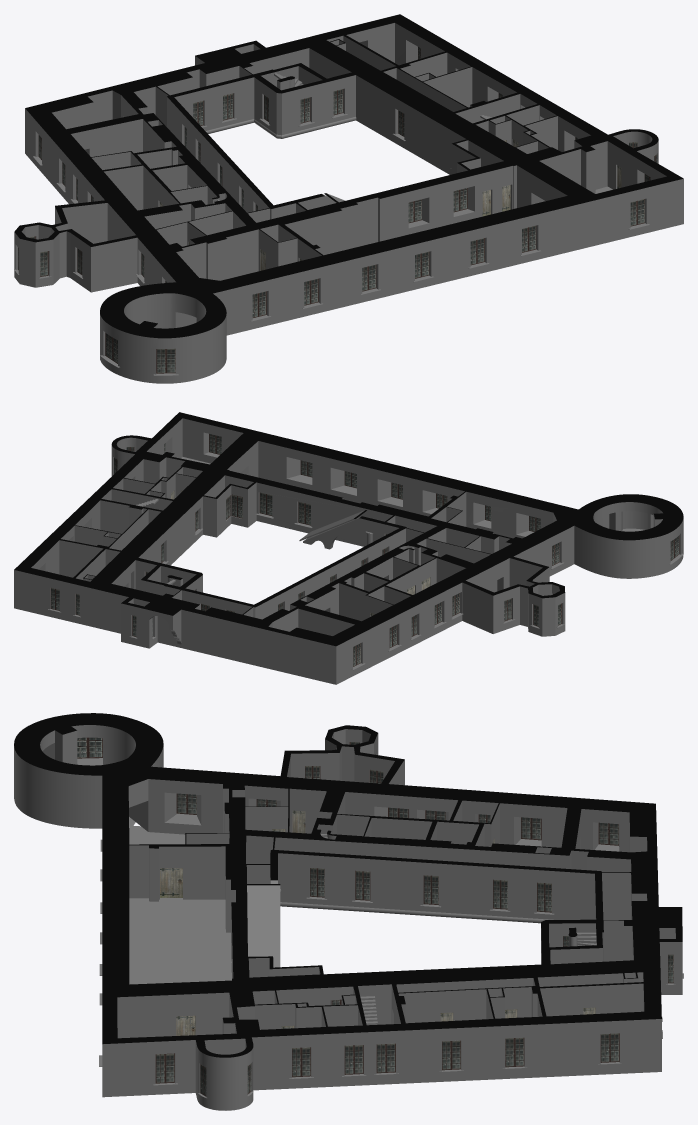
Rendered from 2_STAVS_a.fbx.
The picture shows the model from 3 angles, top to bottom: view 1: azimuth 30°, elevation 25°; view 2: azimuth 150°, elevation 25°; view 3: azimuth 270°, elevation 25°; orthographic projection. The views are drawn at different scales.
Visible parts, largest first — view 1: 2_STAVS, 2_GRIEZUMS, 2_LD; view 2: 2_STAVS, 2_GRIEZUMS, 2_LD, 2_KOKS; view 3: 2_STAVS, 2_GRIEZUMS, 2_LD, 2_GRIDA, 2_JUMTS, 2_KAPNES.
Part boxes in pixels (bbox=[...]): 2_STAVS: bbox=[14, 23, 683, 383]; 2_GRIEZUMS: bbox=[14, 14, 683, 338]; 2_LD: bbox=[14, 47, 657, 375]; 2_STAVS: bbox=[14, 418, 683, 684]; 2_GRIEZUMS: bbox=[14, 412, 683, 646]; 2_LD: bbox=[48, 434, 683, 669]; 2_KOKS: bbox=[203, 482, 354, 540]; 2_STAVS: bbox=[14, 725, 682, 1110]; 2_GRIEZUMS: bbox=[14, 713, 682, 1057]; 2_LD: bbox=[77, 737, 683, 1098]; 2_GRIDA: bbox=[129, 817, 231, 984]; 2_JUMTS: bbox=[247, 885, 280, 967]; 2_KAPNES: bbox=[320, 834, 596, 1025].
Size of the model in its own units: 60023 by 4345 by 49202.
